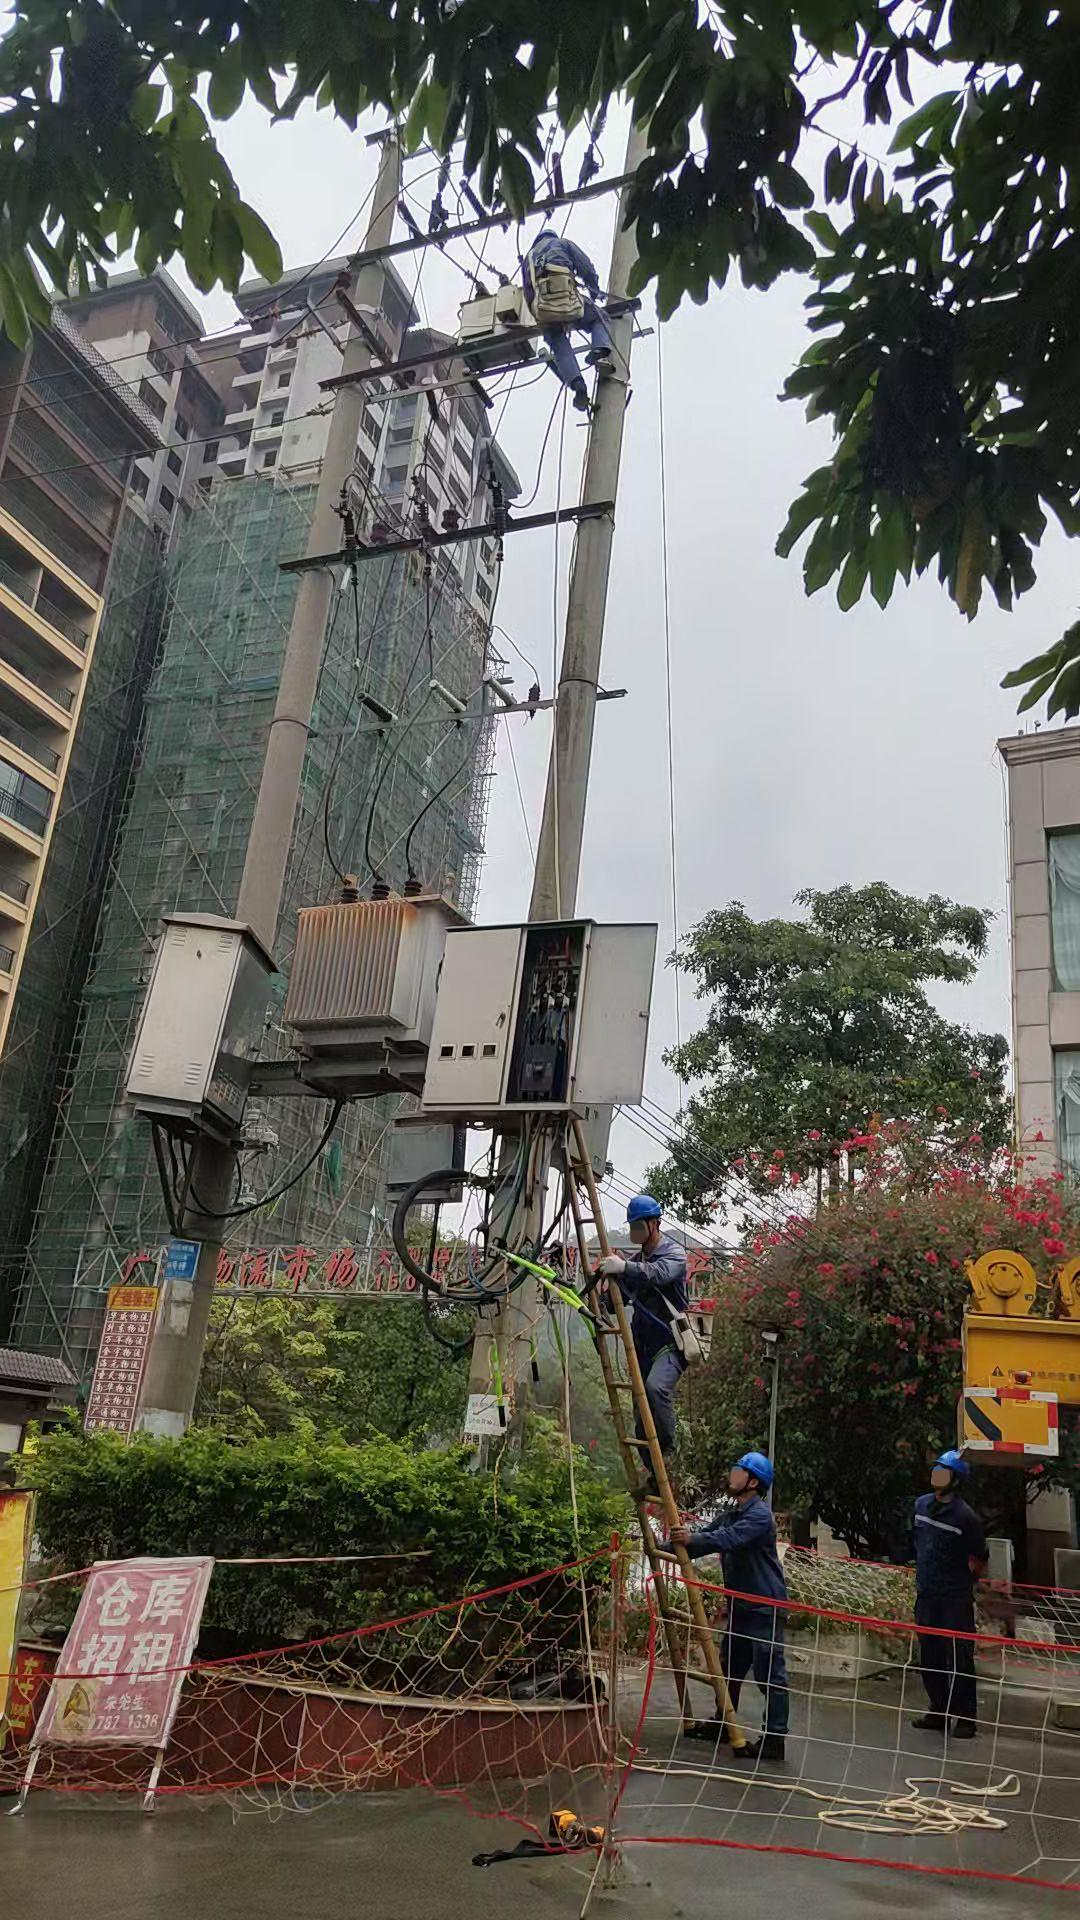halt: (626, 1197, 669, 1249), (733, 1455, 775, 1501), (931, 1455, 968, 1494)
